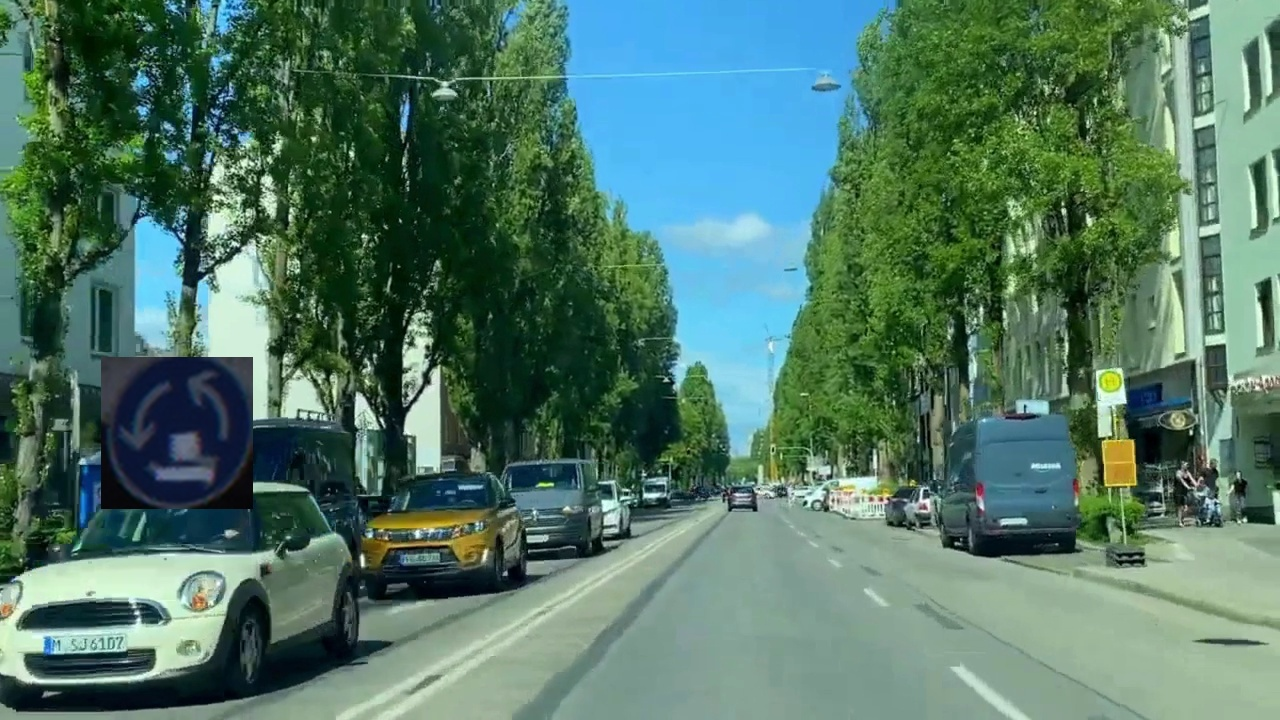Roundabout: (101, 357, 253, 509)
